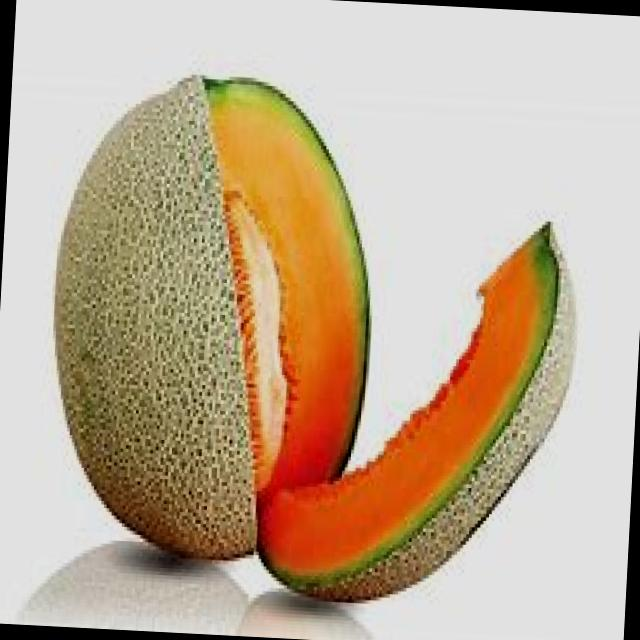cantaloupe: (41, 64, 384, 566), (261, 211, 581, 610)
